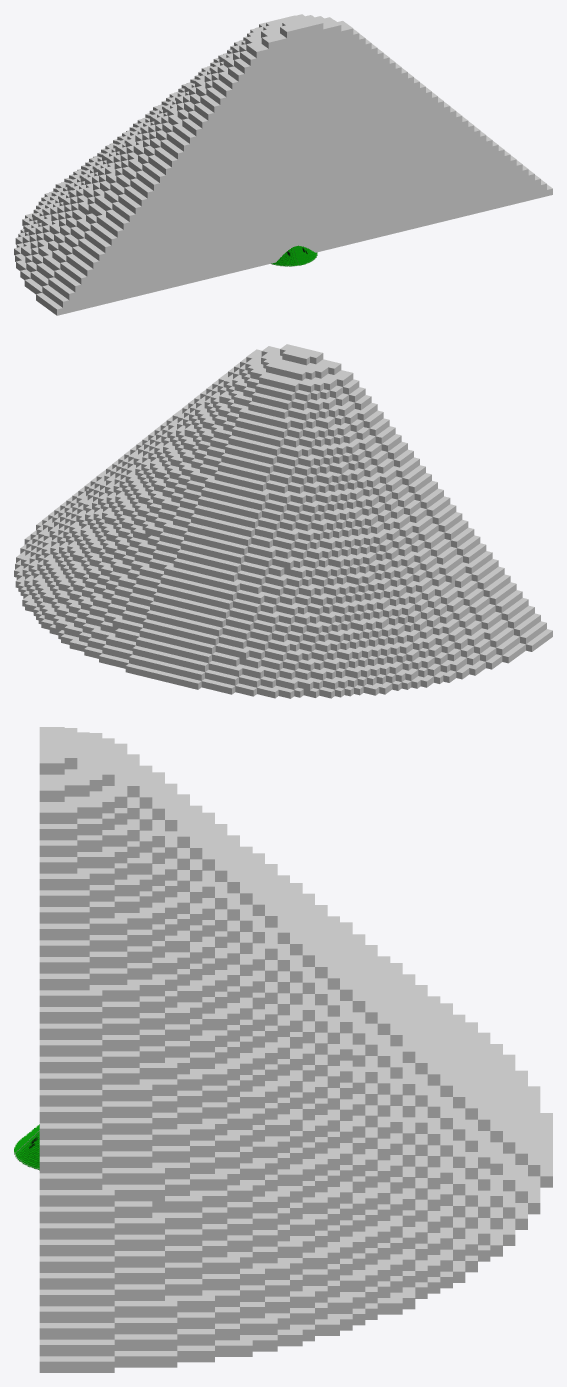
The model's file is bg_mountain.obj.
3 renders of one model, top to bottom at view 1: azimuth 30°, elevation 25°; view 2: azimuth 150°, elevation 25°; view 3: azimuth 270°, elevation 25°, orthographic. The views are drawn at different scales.
Visible parts, largest first — view 1: Mountain_not_optimized, Mountain; view 2: Mountain_not_optimized; view 3: Mountain_not_optimized, Mountain.
Boxes of the visible parts, <box> form: Mountain_not_optimized: <box>14,14,552,315</box>; Mountain: <box>271,245,317,266</box>; Mountain_not_optimized: <box>14,344,552,698</box>; Mountain_not_optimized: <box>39,727,552,1372</box>; Mountain: <box>14,1124,39,1170</box>.
Size of the model in its own units: 820 by 363 by 430.
